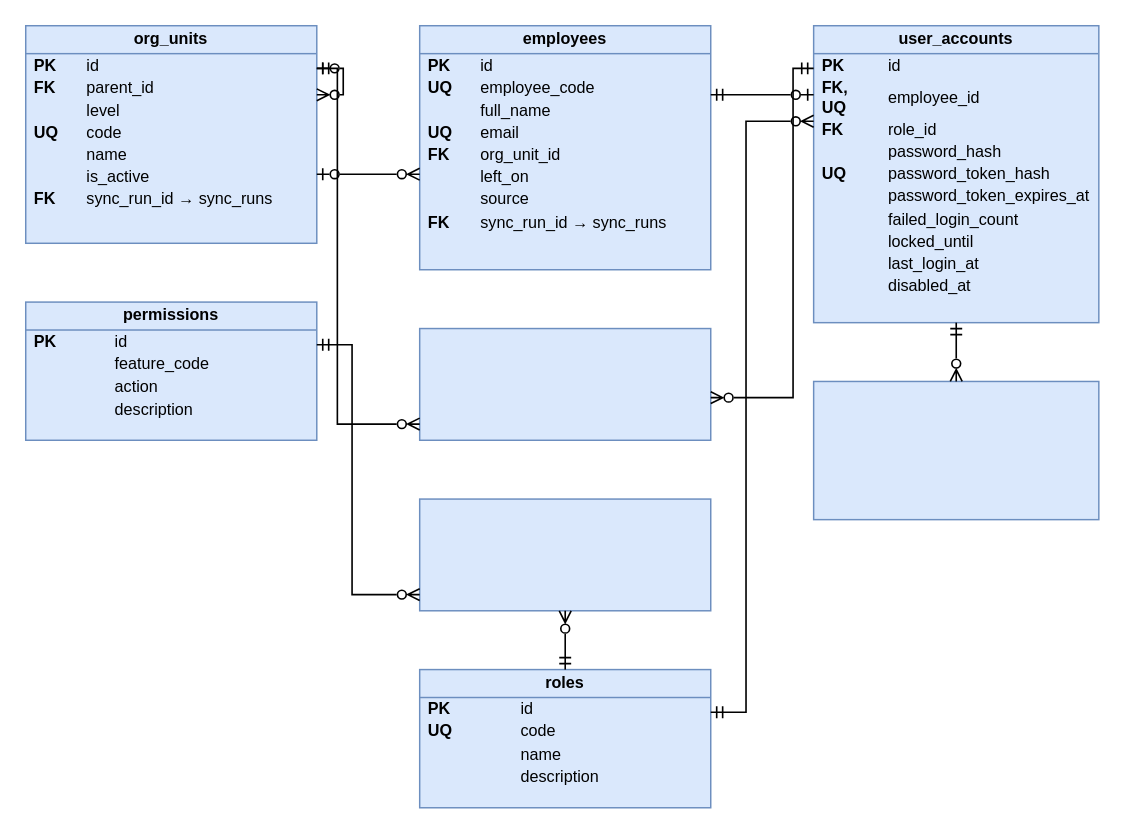
This 1125x833 diagram has some shape labels left out. Here are the shapes that lost their labels. From the top down, the centre of each, then its label:
point 564,383: user_org_units PK id FK user_account_id FK org_unit_id
point 955,450: user_sessions PK id FK user_account_id UQ token_hash expires_at
point 564,554: role_permissions PK id FK role_id FK permission_id
